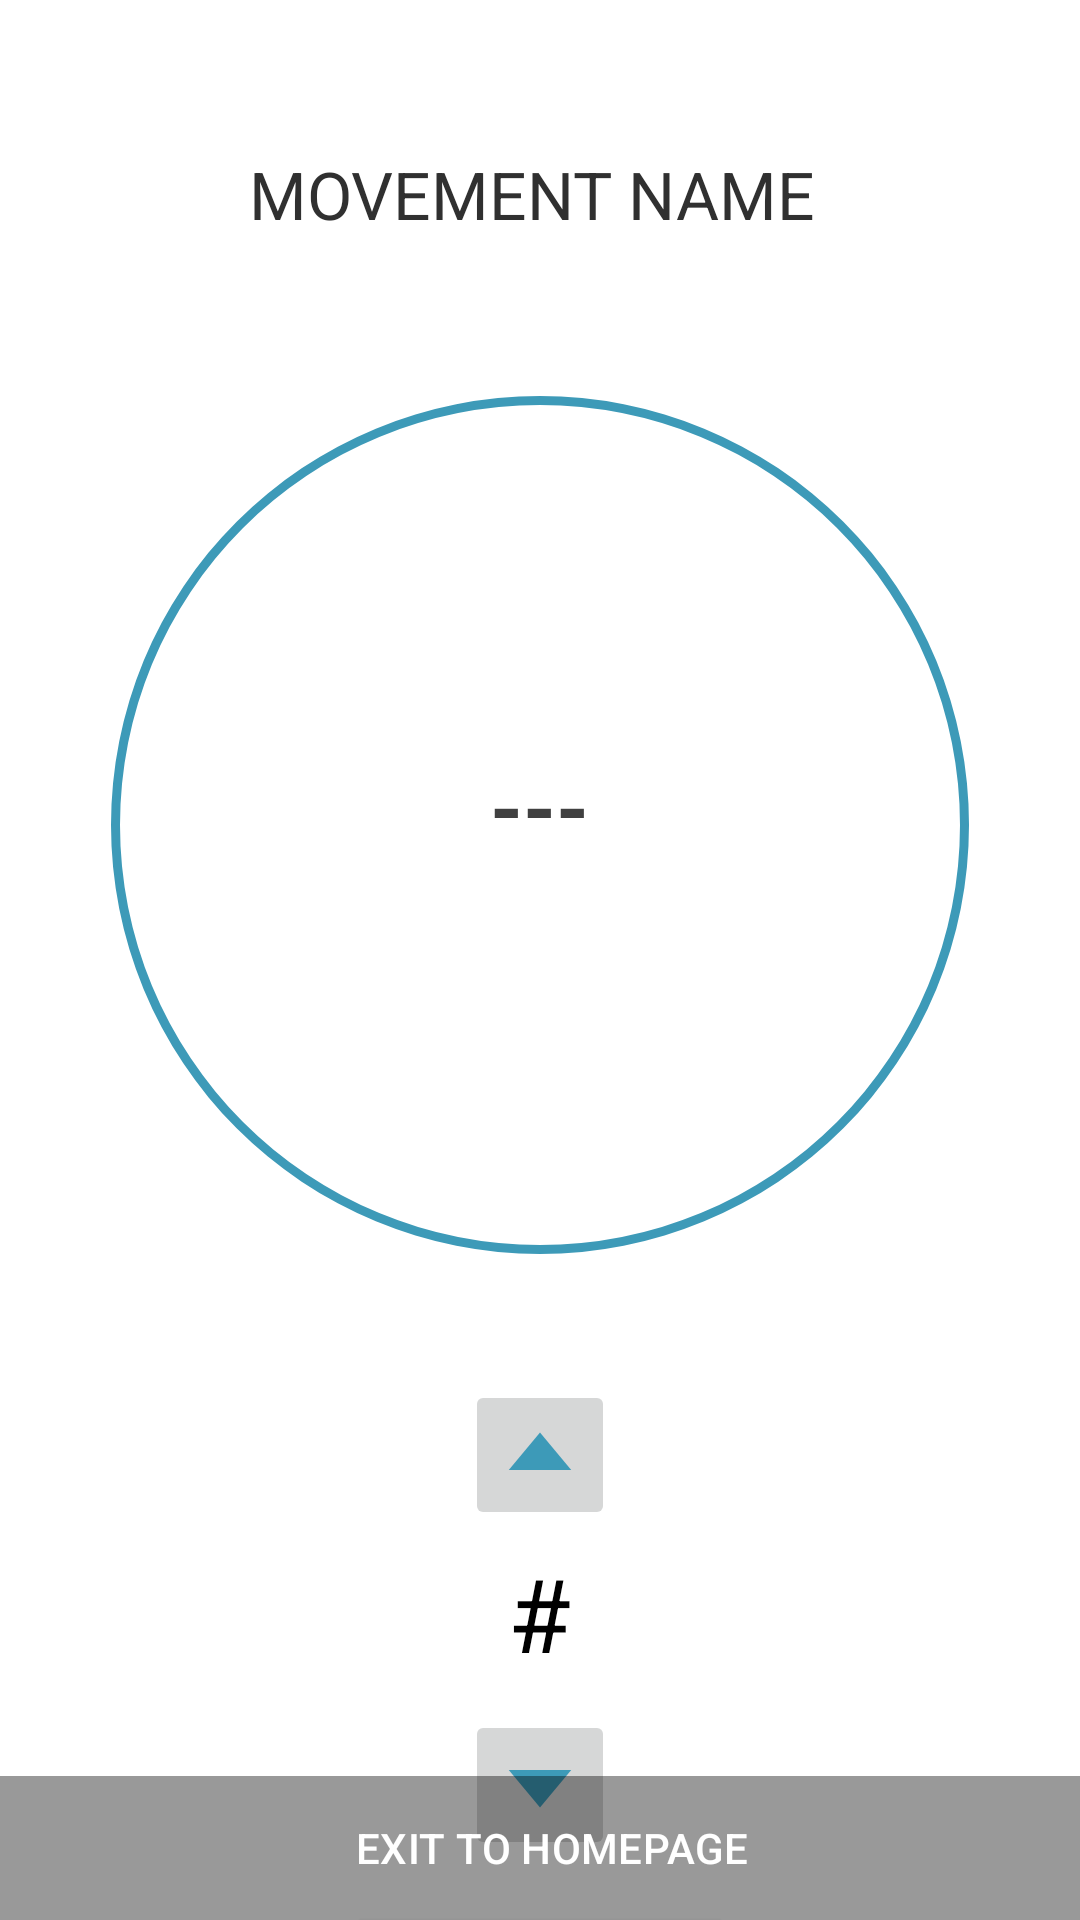

Icon bounding boxes for this 1080 × 1920 phone screenshot, format BBox(x1, y1, x2, y2):
arrow drop up: BBox(477, 1398, 603, 1512)
